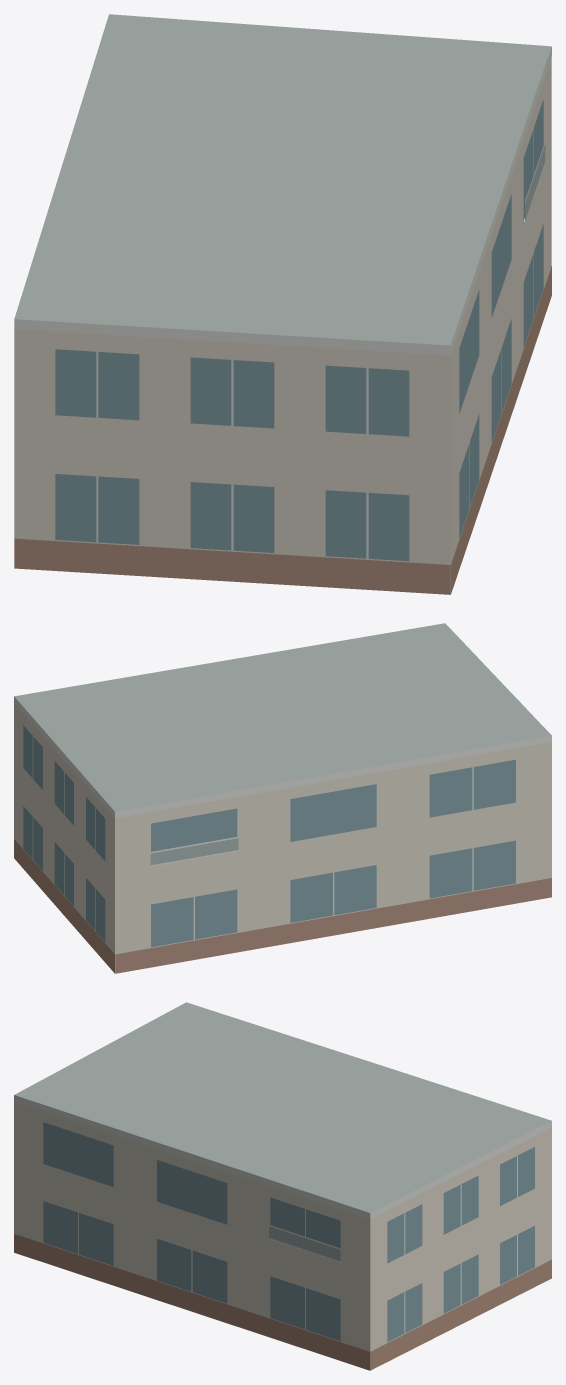
The model's file is survey-upis-32969055.glb.
3 renders of one model, top to bottom at view 1: azimuth 30°, elevation 25°; view 2: azimuth 150°, elevation 25°; view 3: azimuth 270°, elevation 25°, orthographic. The views are drawn at different scales.
Parts seen in each view (by area): view 1: survey-upis-32969055.tmp; view 2: survey-upis-32969055.tmp; view 3: survey-upis-32969055.tmp.
Part boxes in pixels (left/top/right/bottom): survey-upis-32969055.tmp: left=14, top=14, right=551, bottom=594; survey-upis-32969055.tmp: left=14, top=623, right=551, bottom=973; survey-upis-32969055.tmp: left=14, top=1002, right=551, bottom=1370.
Bounding box in the file's own units: 17.5 × 6.1 × 18.86.
